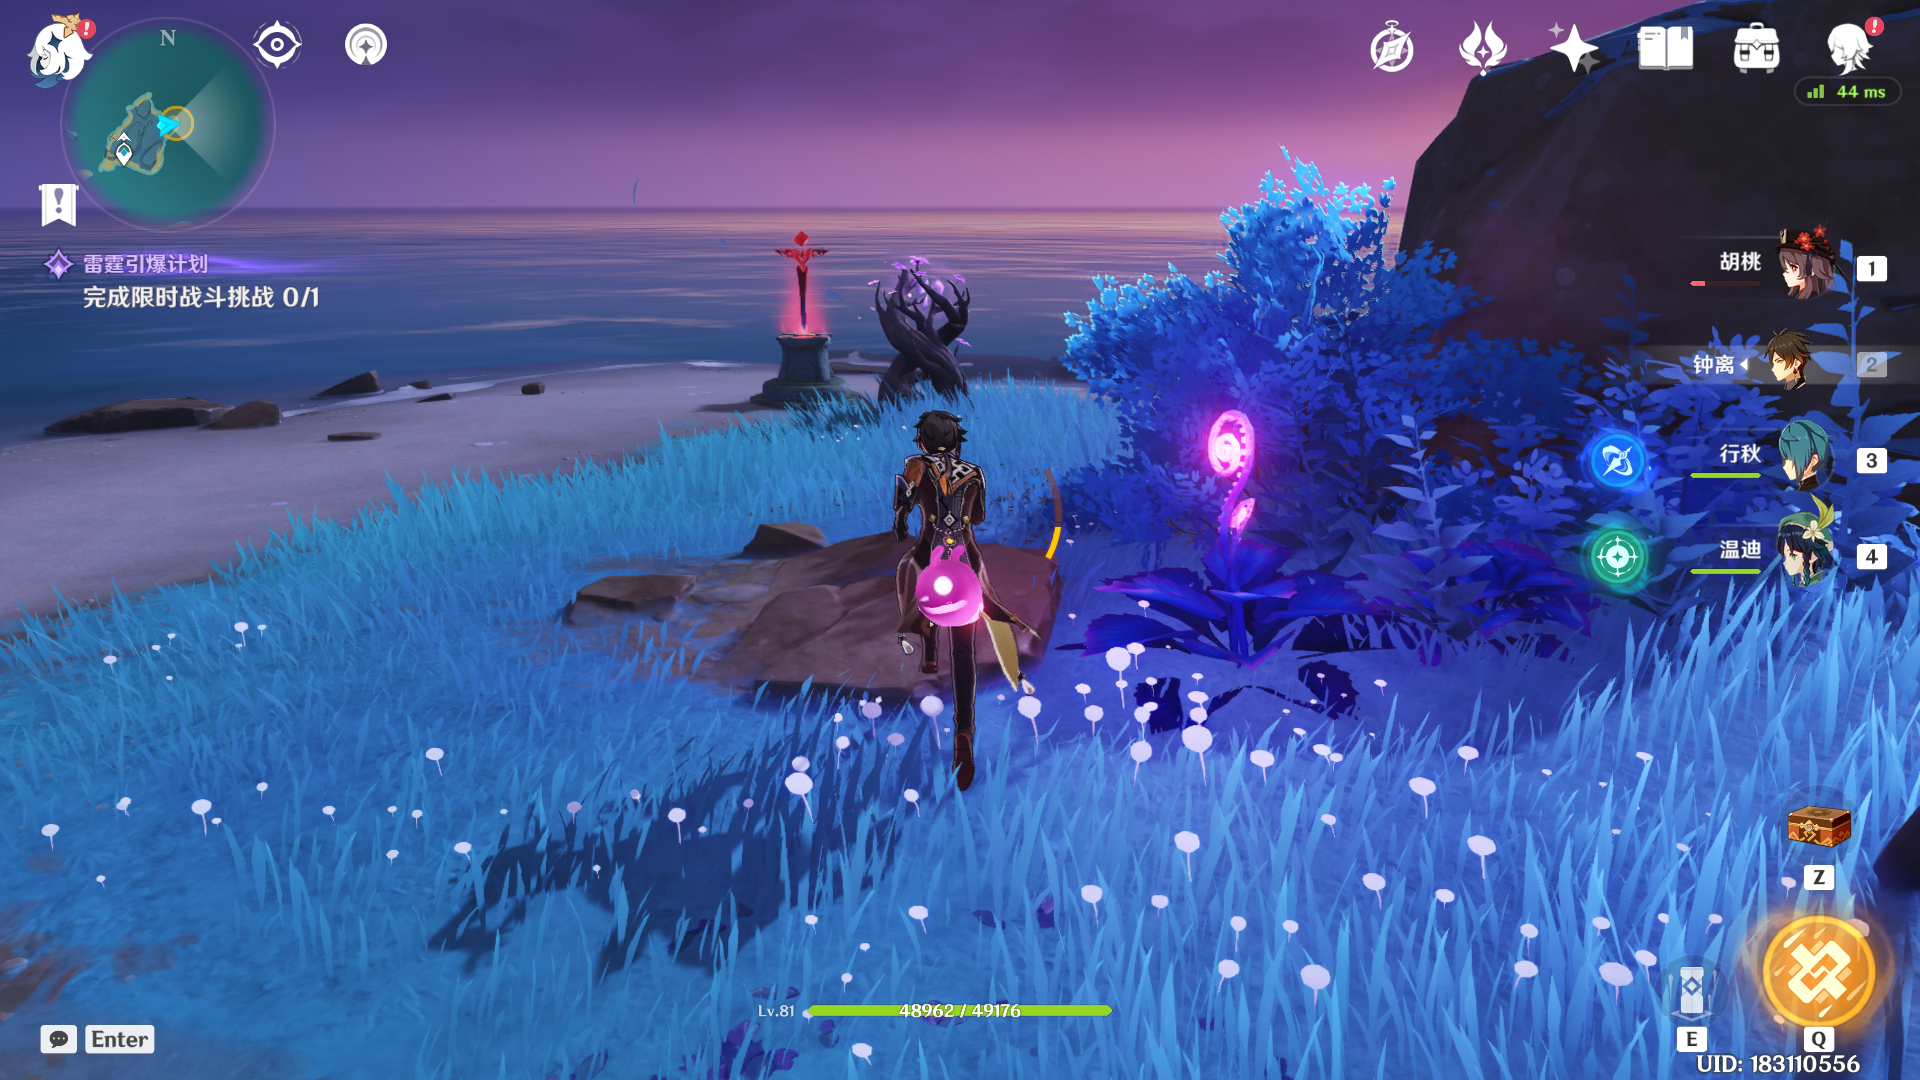character: (791, 392, 1100, 818)
